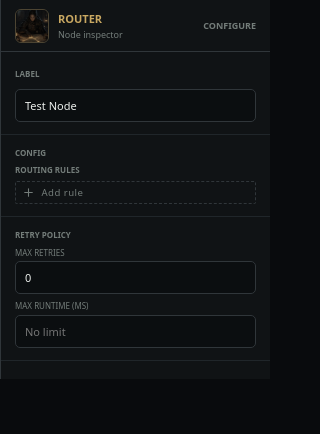
it: NodeInspector — router config › adds a rule row when Add Rule is clicked
This screenshot has width=320, height=434.
What coordinates should you click on to do the following:
click the button "Add rule"
I would click on:
 (136, 193)
Its box is x1=15 y1=181 x2=256 y2=204.
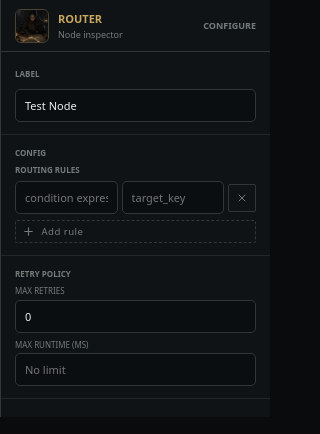
Expected: the field with placeholder "condition expression" is shown, x1=15 y1=181 x2=118 y2=214
Expected: the field with placeholder "target_key" is shown, x1=122 y1=181 x2=224 y2=214
